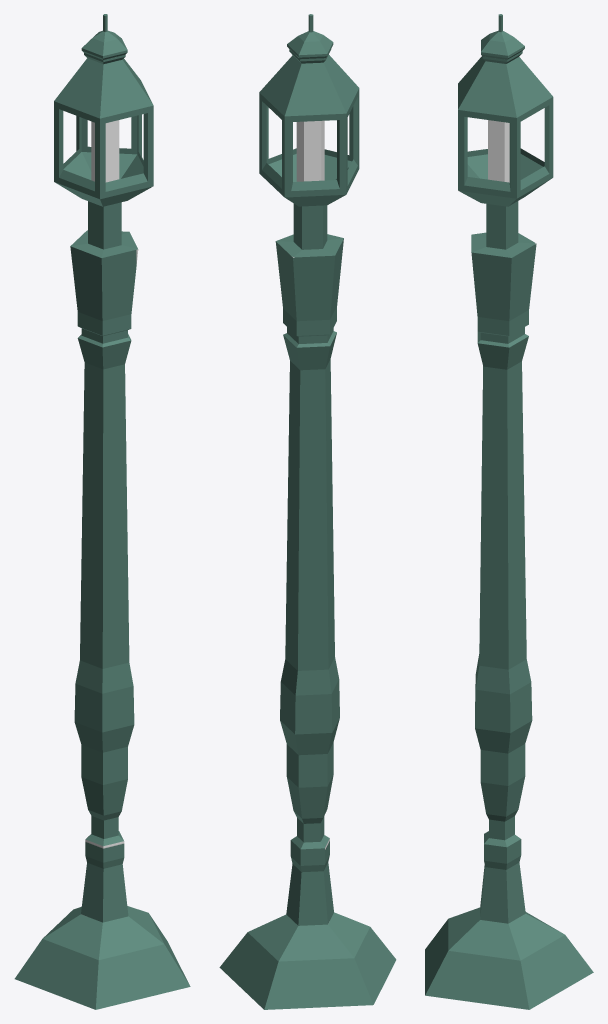
Rendered from lampadaire.obj.
The picture shows the model from 3 angles, left to right: view 1: azimuth 30°, elevation 25°; view 2: azimuth 150°, elevation 25°; view 3: azimuth 270°, elevation 25°; orthographic projection.
Visible parts, largest first — view 1: Cylinder, Cylinder.001; view 2: Cylinder, Cylinder.001; view 3: Cylinder, Cylinder.001.
Boxes of the visible parts, x1,y1,x2,y2 form: Cylinder: (14,14,190,1009); Cylinder.001: (91,120,119,182); Cylinder: (219,14,396,1009); Cylinder.001: (296,120,324,181); Cylinder: (425,14,593,1009); Cylinder.001: (488,120,509,182).
Bounding box in the file's own units: 0.5737 × 3.42 × 0.5456.
Materials: 1 (1 with a texture image).
